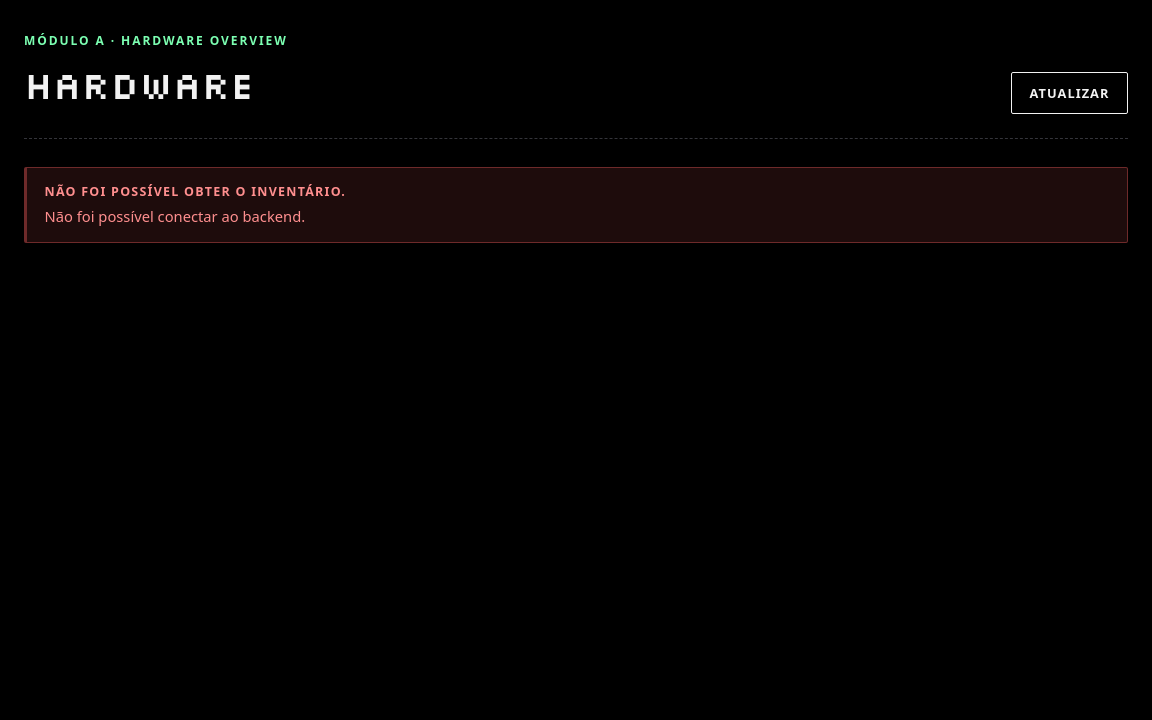
Test: HardwareOverviewPage › mostra erro quando o backend não responde e permite tentar novamente
Expected: the text "Não foi possível conectar ao backend." is shown, top-left (45, 206), bottom-right (305, 226)
Expected: the text "Sistema operacional" is not shown
Click the button "Atualizar" at (1070, 93), box top-left (1011, 72), bottom-right (1128, 114)
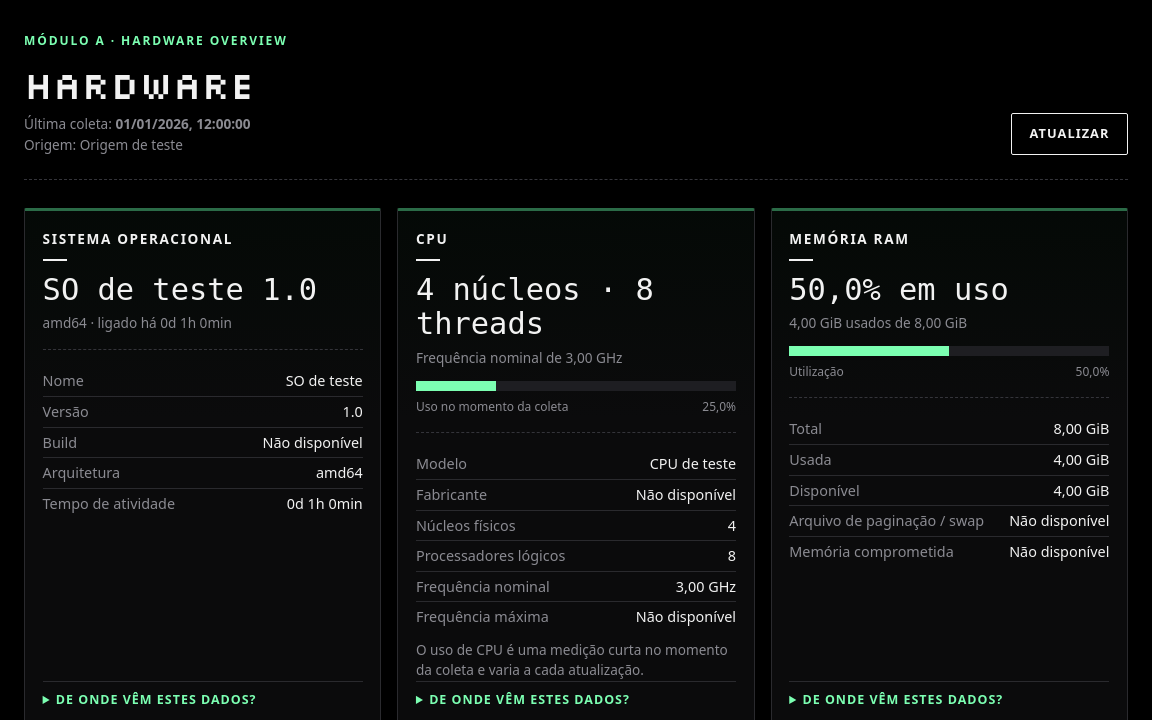
Expected: the text "SO de teste" is shown, top-left (286, 370), bottom-right (363, 392)
Expected: the text "Não foi possível conectar ao backend." is gone
